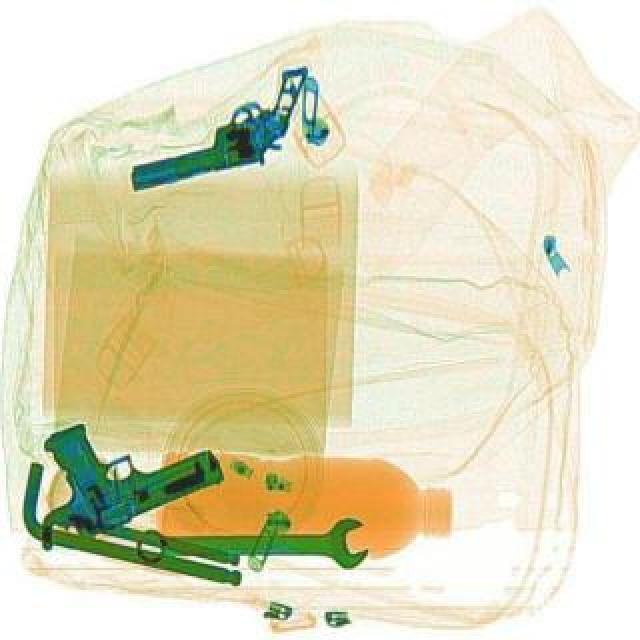gun: (6, 384, 230, 552), (112, 64, 332, 196)
scissors: (138, 516, 370, 568)
